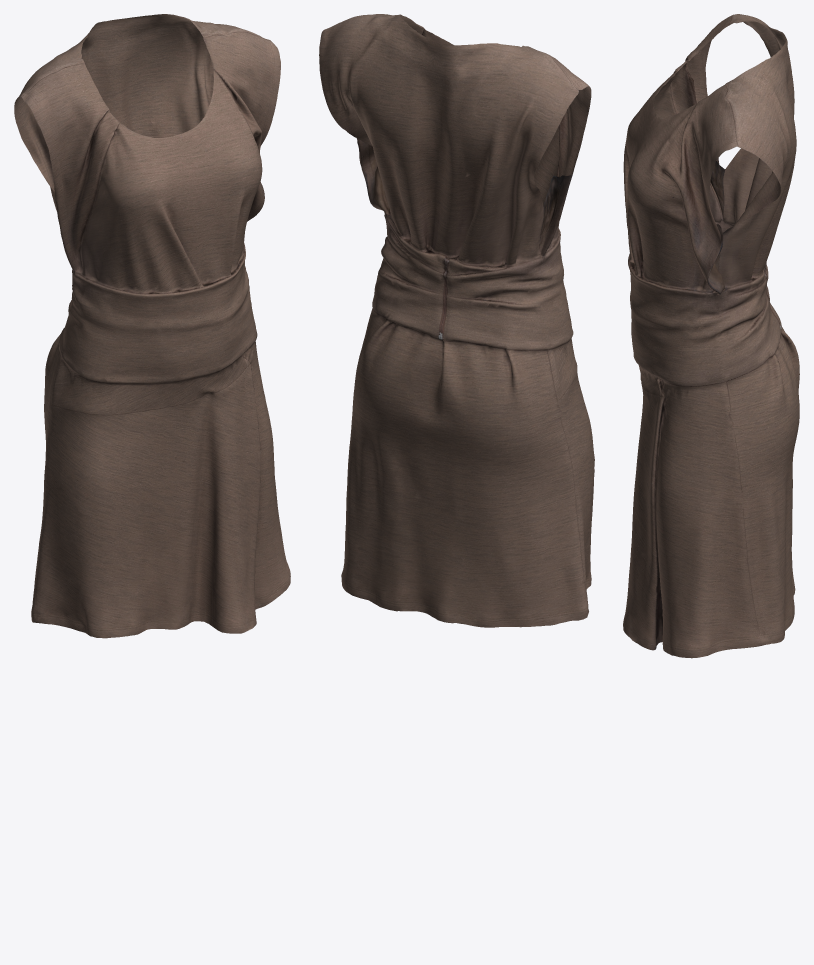
The model's file is Dress2.gltf.
3 renders of one model, left to right at view 1: azimuth 30°, elevation 25°; view 2: azimuth 150°, elevation 25°; view 3: azimuth 270°, elevation 25°, orthographic. The views are drawn at different scales.
Parts seen in each view (by area): view 1: Dress-20.Shape; view 2: Dress-20.Shape; view 3: Dress-20.Shape.
Part boxes in pixels (x1,y1,x2,y2): Dress-20.Shape: (14,14,290,638); Dress-20.Shape: (319,14,594,627); Dress-20.Shape: (623,14,799,658).
Bounding box in the file's own units: 0.4424 × 1.53 × 0.2697.
Materials: 1 (1 with a texture image).
